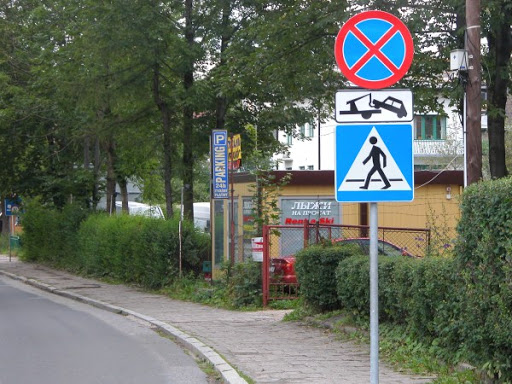no_stopping_sign: (334, 9, 415, 89)
